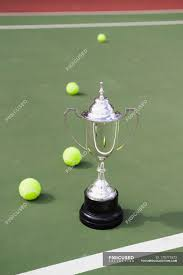tennis_ball: (19, 177, 41, 200), (62, 146, 83, 166), (66, 81, 79, 95), (96, 32, 106, 44)
